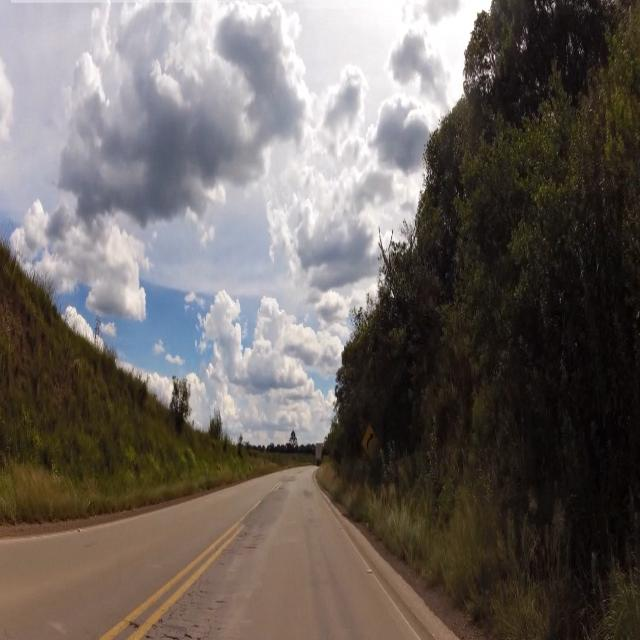A-2b: (362, 427, 382, 459)
